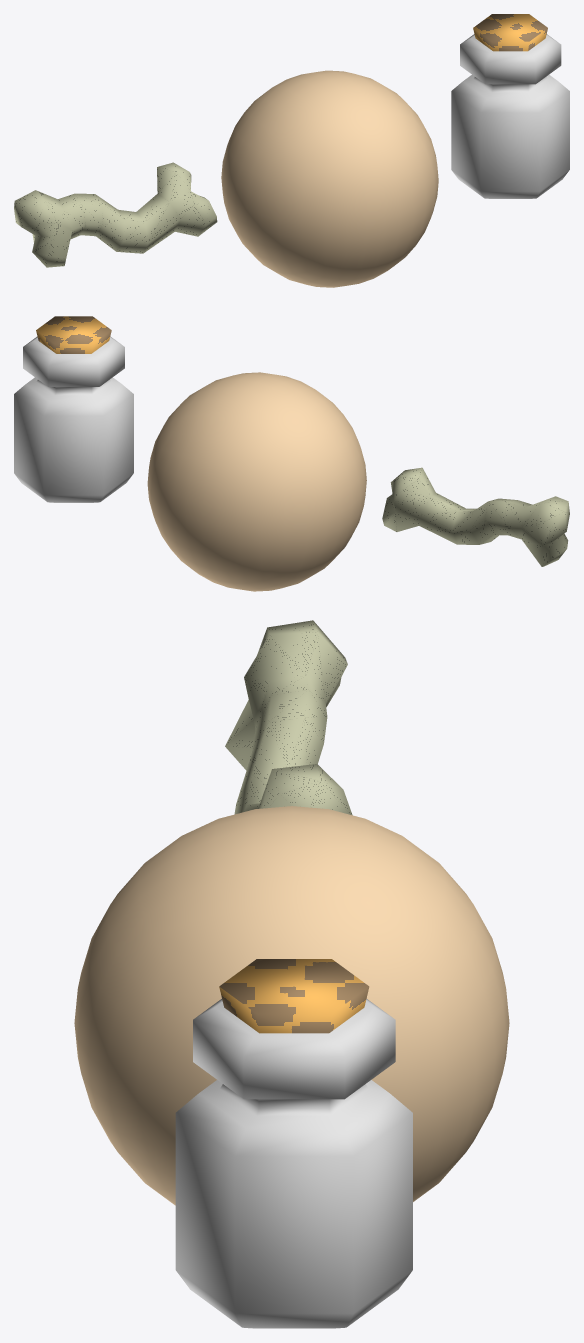
Rendered from item_fbx.fbx.
The picture shows the model from 3 angles, top to bottom: view 1: azimuth 30°, elevation 25°; view 2: azimuth 150°, elevation 25°; view 3: azimuth 270°, elevation 25°; orthographic projection. The views are drawn at different scales.
Visible parts, largest first — view 1: egg, bottle, funnybone; view 2: egg, bottle, funnybone; view 3: egg, bottle, funnybone.
Boxes of the visible parts, x1,y1,x2,y2 form: egg: (221,70,438,287); bottle: (451,14,569,198); funnybone: (14,162,217,267); egg: (147,372,366,591); bottle: (14,316,133,502); funnybone: (382,467,569,566); egg: (74,806,509,1205); bottle: (175,959,412,1328); funnybone: (225,620,352,815).
Size of the model in its own units: 1317 by 482 by 463.
Materials: 7 (6 with a texture image).
